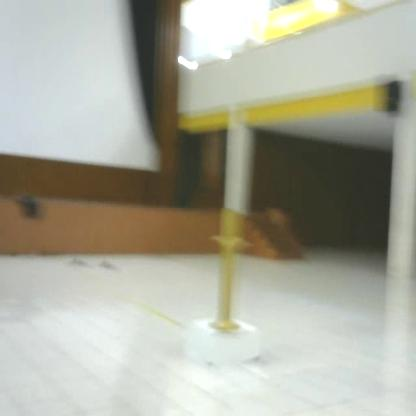pole: (208, 202, 247, 337)
